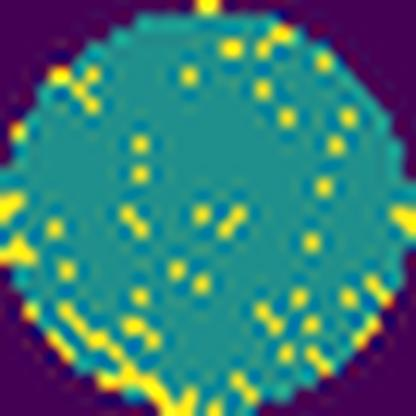Scratch: (58, 298, 200, 416)
